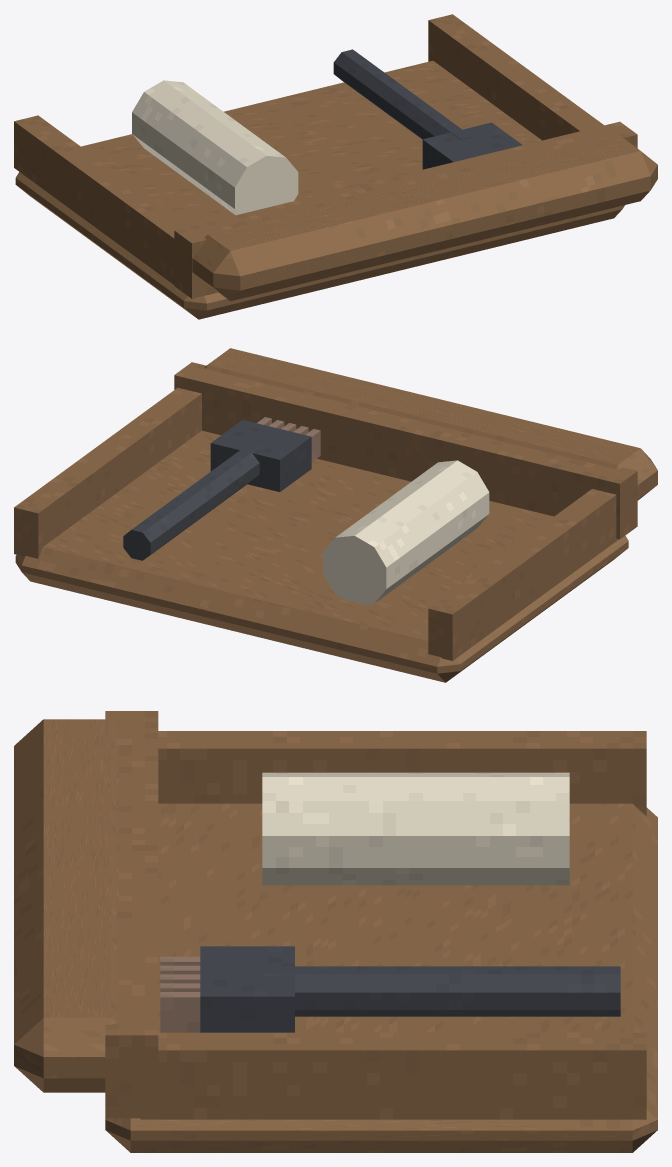
The model's file is hair_dye_kit.glb.
3 renders of one model, top to bottom at view 1: azimuth 30°, elevation 25°; view 2: azimuth 150°, elevation 25°; view 3: azimuth 270°, elevation 25°, orthographic. The views are drawn at different scales.
Parts seen in each view (by area): view 1: block_hinged lid, block_opened carrying case, block_end rim (×2), block_dye tube, block_back rim, block_applicator handle, block_brush head; view 2: block_opened carrying case, block_end rim (×2), block_back rim, block_dye tube, block_hinged lid, block_applicator handle, block_brush head; view 3: block_opened carrying case, block_end rim (×2), block_hinged lid, block_dye tube, block_back rim, block_applicator handle, block_brush head, block_bristles.
Part boxes in pixels (x1=…): block_hinged lid: x1=192, y1=134, x2=657, y2=301; block_opened carrying case: x1=15, y1=60, x2=624, y2=319; block_end rim (×2): x1=14, y1=14, x2=603, y2=284; block_dye tube: x1=132, y1=80, x2=298, y2=215; block_back rim: x1=174, y1=121, x2=637, y2=298; block_applicator handle: x1=333, y1=49, x2=472, y2=139; block_brush head: x1=422, y1=122, x2=522, y2=169; block_opened carrying case: x1=15, y1=430, x2=628, y2=682; block_end rim (×2): x1=14, y1=387, x2=618, y2=660; block_back rim: x1=174, y1=362, x2=637, y2=539; block_dye tube: x1=323, y1=460, x2=489, y2=604; block_hinged lid: x1=204, y1=348, x2=657, y2=500; block_applicator handle: x1=123, y1=442, x2=262, y2=560; block_brush head: x1=210, y1=420, x2=311, y2=491; block_opened carrying case: x1=105, y1=803, x2=657, y2=1152; block_end rim (×2): x1=140, y1=731, x2=646, y2=1119; block_hinged lid: x1=14, y1=719, x2=116, y2=1092; block_dye tube: x1=262, y1=772, x2=569, y2=885; block_back rim: x1=105, y1=711, x2=158, y2=1118; block_applicator handle: x1=263, y1=966, x2=620, y2=1016; block_brush head: x1=200, y1=946, x2=294, y2=1032; block_bristles: x1=160, y1=992, x2=200, y2=1032.
Size of the model in its own units: 0.21 by 0.0469 by 0.1762.
Materials: 1 (1 with a texture image).
